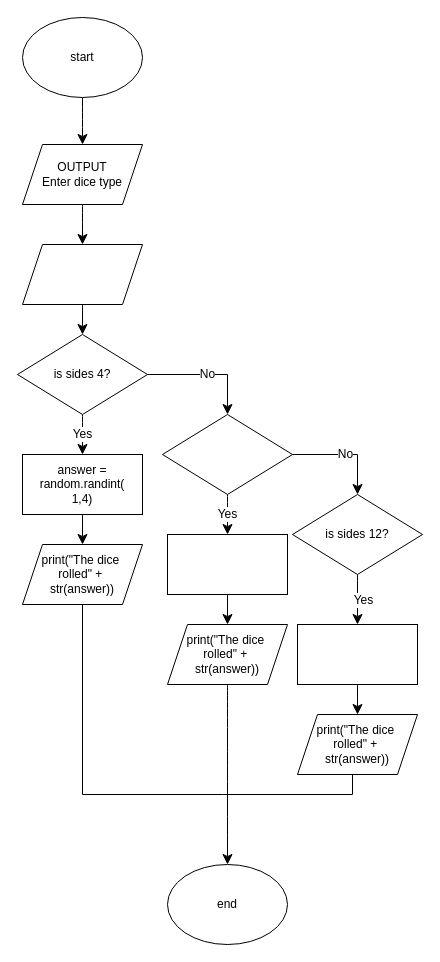
Some shapes in this 440 by 962 pixel diagram are drawn without their labels. Here are the shapes that lost their labels. From the top down, the box of each, then its label:
(22, 244, 142, 304): INPUT = sides
(162, 414, 292, 494): is sides 6?
(166, 534, 288, 594): answer = random.randint( 1,6)
(296, 624, 418, 684): answer = random.randint( 1,12)
